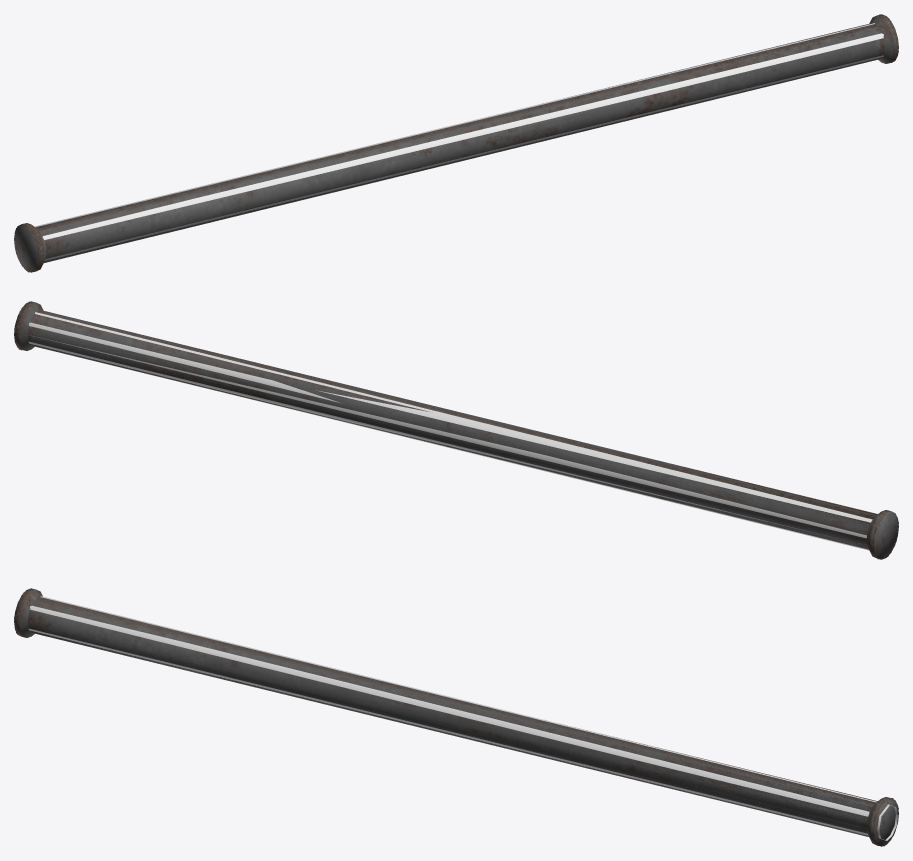
Rendered from s_steel_factory_pipe_d30.dae.
The picture shows the model from 3 angles, top to bottom: view 1: azimuth 30°, elevation 25°; view 2: azimuth 150°, elevation 25°; view 3: azimuth 330°, elevation 25°; orthographic projection.
Parts seen in each view (by area): view 1: Colmesh_s_steel_factory_pipe_d30-1, s_steel_factory_pipe_d30_a100, s_steel_factory_pipe_d30_a400, s_steel_factory_pipe_d30_a50; view 2: Colmesh_s_steel_factory_pipe_d30-1, s_steel_factory_pipe_d30_a100, s_steel_factory_pipe_d30_a50, s_steel_factory_pipe_d30_a400; view 3: Colmesh_s_steel_factory_pipe_d30-1, s_steel_factory_pipe_d30_a100, s_steel_factory_pipe_d30_a400, s_steel_factory_pipe_d30_a50.
Boxes of the visible parts, x1=… form: Colmesh_s_steel_factory_pipe_d30-1: x1=14, y1=14, x2=898, y2=272; s_steel_factory_pipe_d30_a100: x1=15, y1=14, x2=898, y2=272; s_steel_factory_pipe_d30_a400: x1=26, y1=15, x2=898, y2=269; s_steel_factory_pipe_d30_a50: x1=34, y1=23, x2=883, y2=260; Colmesh_s_steel_factory_pipe_d30-1: x1=14, y1=301, x2=898, y2=559; s_steel_factory_pipe_d30_a100: x1=14, y1=301, x2=898, y2=559; s_steel_factory_pipe_d30_a50: x1=28, y1=312, x2=877, y2=550; s_steel_factory_pipe_d30_a400: x1=14, y1=302, x2=889, y2=556; Colmesh_s_steel_factory_pipe_d30-1: x1=14, y1=588, x2=898, y2=846; s_steel_factory_pipe_d30_a100: x1=14, y1=588, x2=898, y2=846; s_steel_factory_pipe_d30_a400: x1=14, y1=590, x2=890, y2=842; s_steel_factory_pipe_d30_a50: x1=28, y1=596, x2=897, y2=840.
Size of the model in its own units: 8.02 by 0.4007 by 0.4007.
